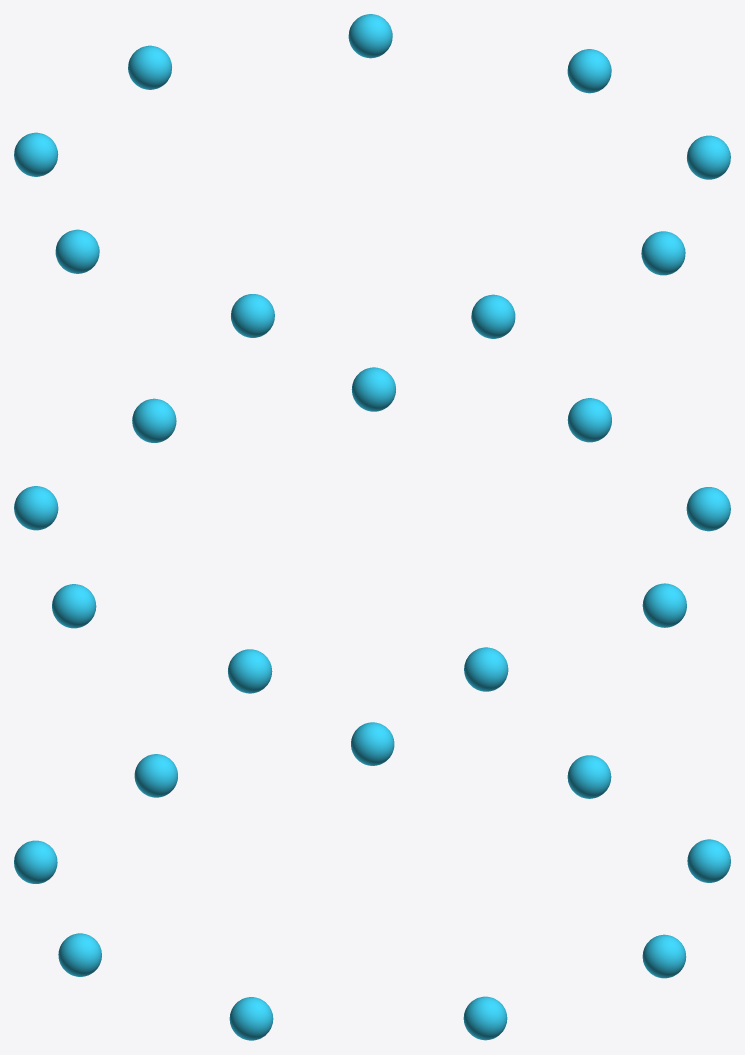
The picture shows the model from 3 angles, top to bottom: view 1: azimuth 30°, elevation 25°; view 2: azimuth 150°, elevation 25°; view 3: azimuth 270°, elevation 25°; orthographic projection.
Visible parts, largest first — view 1: Sphere048; view 2: Sphere048; view 3: Sphere048.
Boxes of the visible parts, left/top/right/bottom form: Sphere048: left=14, top=14, right=730, bottom=338; Sphere048: left=14, top=367, right=730, bottom=693; Sphere048: left=14, top=722, right=730, bottom=1040.
Bounding box in the file's own units: 130 × 8.22 × 135.
